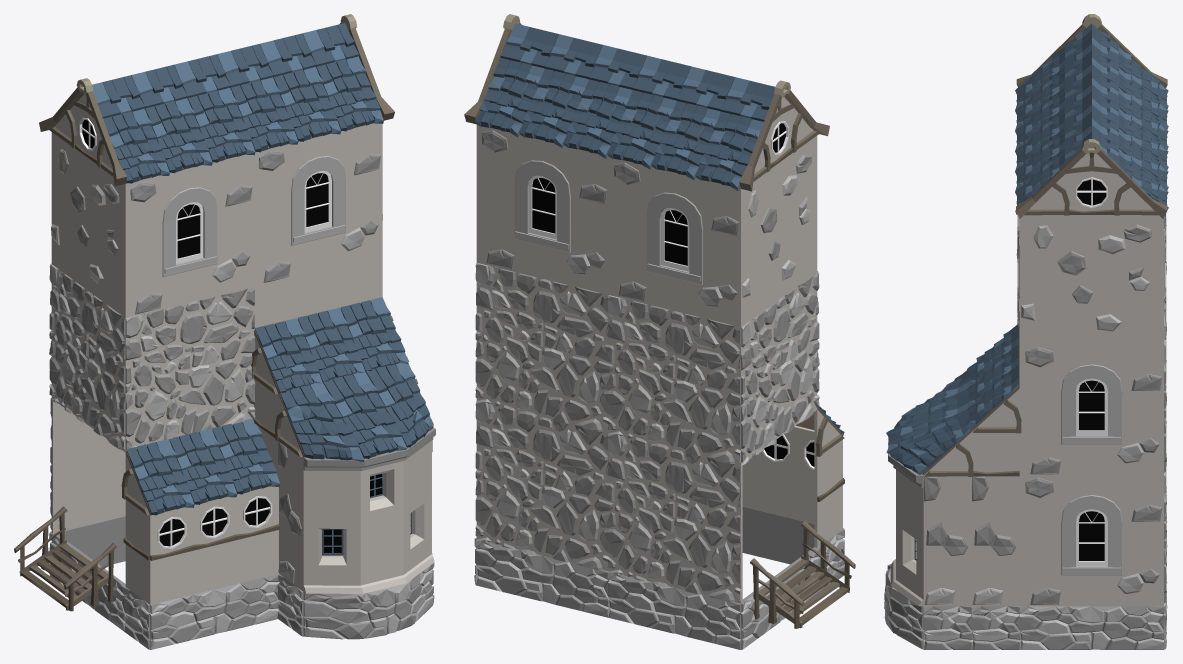
The model's file is HOUSE_12_PARTS.fbx.
3 renders of one model, left to right at view 1: azimuth 30°, elevation 25°; view 2: azimuth 150°, elevation 25°; view 3: azimuth 270°, elevation 25°, orthographic. The views are drawn at different scales.
Visible parts, largest first — view 1: BALKON_04_3, WINDOW_07_9, WINDOW_07_8, WALL_02_9, ROOF_base_round_2, WALL_02_8, WALL_06_2, WALL_02_13, FOUNDATION_02_1, FOUNDATION_01_4, STAIRS_01_2, WALL_03_2 (+41 smaller); view 2: WALL_02_13, WALL_02_10, WALL_02_11, WALL_02_12, WINDOW_07_13, WINDOW_07_12, WALL_02_8, WALL_06_2, FOUNDATION_01_7, FOUNDATION_01_6, STAIRS_01_2, ROOF_base_76 (+25 smaller); view 3: WINDOW_07_11, WINDOW_07_10, WALL_06_3, WALL_03_3, FOUNDATION_01_5, WALL_03_4, ROOF_base_round_2, BALKON_04_3, FOUNDATION_03_4, FOUNDATION_03_5, ROOF_TRIANGLE_WOOD_2, ROOF_TRIANGLE_WINDOW_ROUND_5 (+38 smaller).
Part boxes in pixels (x1=…): BALKON_04_3: x1=303, y1=427, x2=435, y2=593; WINDOW_07_9: x1=254, y1=123, x2=382, y2=286; WINDOW_07_8: x1=125, y1=154, x2=253, y2=317; WALL_02_9: x1=125, y1=287, x2=255, y2=451; ROOF_base_round_2: x1=278, y1=363, x2=433, y2=461; WALL_02_8: x1=49, y1=264, x2=125, y2=452; WALL_06_2: x1=51, y1=132, x2=128, y2=317; WALL_02_13: x1=50, y1=398, x2=125, y2=533; FOUNDATION_02_1: x1=303, y1=564, x2=433, y2=639; FOUNDATION_01_4: x1=150, y1=574, x2=279, y2=649; STAIRS_01_2: x1=14, y1=506, x2=116, y2=611; WALL_03_2: x1=278, y1=441, x2=303, y2=591; WALL_02_13: x1=607, y1=433, x2=742, y2=603; WALL_02_10: x1=475, y1=263, x2=608, y2=433; WALL_02_11: x1=607, y1=295, x2=740, y2=464; WALL_02_12: x1=475, y1=401, x2=608, y2=571; WINDOW_07_13: x1=476, y1=124, x2=608, y2=294; WINDOW_07_12: x1=609, y1=156, x2=740, y2=326; WALL_02_8: x1=738, y1=271, x2=819, y2=465; WALL_06_2: x1=738, y1=136, x2=817, y2=326; FOUNDATION_01_7: x1=607, y1=572, x2=742, y2=649; FOUNDATION_01_6: x1=475, y1=539, x2=609, y2=617; STAIRS_01_2: x1=750, y1=521, x2=855, y2=628; ROOF_base_76: x1=475, y1=58, x2=544, y2=137; WINDOW_07_11: x1=1019, y1=475, x2=1163, y2=606; WINDOW_07_10: x1=1019, y1=345, x2=1163, y2=475; WALL_06_3: x1=1019, y1=215, x2=1163, y2=344; WALL_03_3: x1=971, y1=476, x2=1019, y2=606; FOUNDATION_01_5: x1=1019, y1=606, x2=1163, y2=649; WALL_03_4: x1=923, y1=475, x2=971, y2=606; ROOF_base_round_2: x1=886, y1=370, x2=971, y2=475; BALKON_04_3: x1=888, y1=436, x2=940, y2=606; FOUNDATION_03_4: x1=971, y1=606, x2=1019, y2=649; FOUNDATION_03_5: x1=923, y1=606, x2=971, y2=649; ROOF_TRIANGLE_WOOD_2: x1=971, y1=432, x2=1019, y2=476; ROOF_TRIANGLE_WINDOW_ROUND_5: x1=1068, y1=171, x2=1115, y2=214.
Size of the model in its own units: 738 by 1173 by 593.
